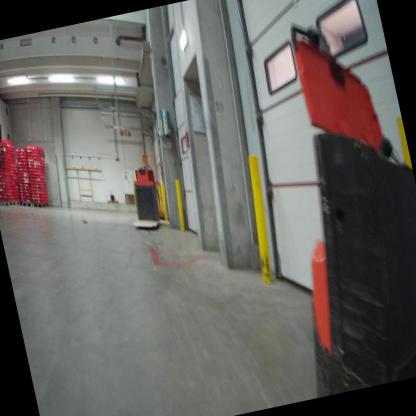pallet: (30, 197, 50, 210), (0, 195, 16, 207), (20, 198, 32, 209), (14, 198, 22, 207)
pallet_truck: (242, 0, 416, 395), (121, 157, 172, 239)
